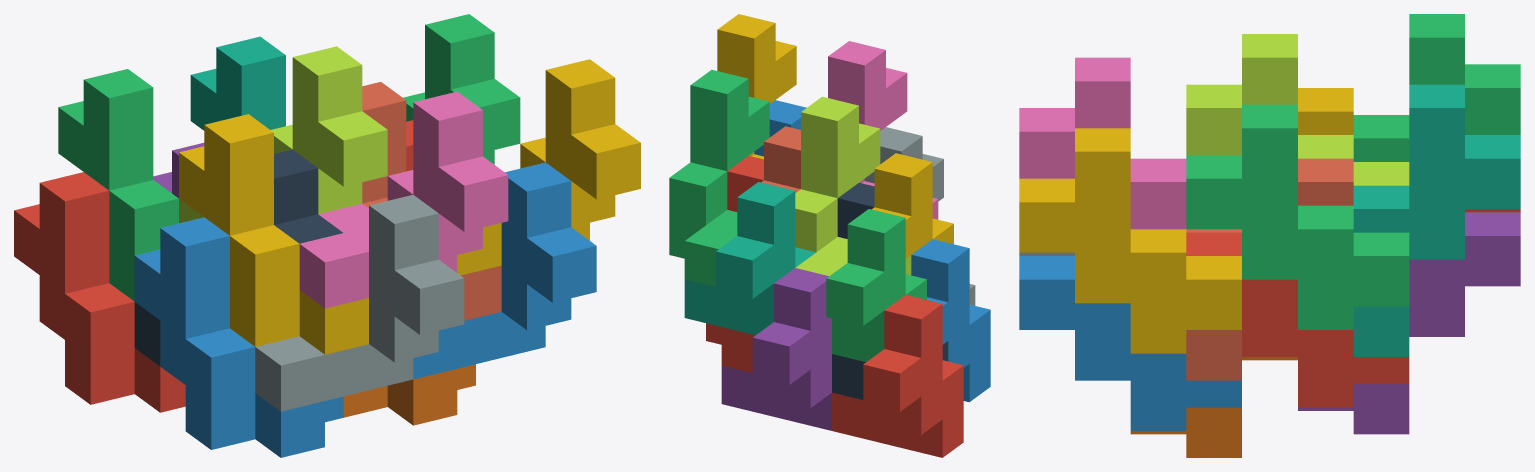
The model's file is tiling.obj.
The picture shows the model from 3 angles, left to right: view 1: azimuth 30°, elevation 25°; view 2: azimuth 150°, elevation 25°; view 3: azimuth 270°, elevation 25°; orthographic projection. The views are drawn at different scales.
Visible parts, largest first — view 1: copy_1_domain_2, copy_2_domain_2, copy_1_domain_1, copy_1_domain_4, copy_2_domain_4, copy_2_domain_6, copy_1_domain_3, copy_2_domain_8, copy_2_domain_3, copy_2_domain_7, copy_1_domain_7, copy_2_domain_1 (+3 smaller); view 2: copy_1_domain_1, copy_2_domain_7, copy_1_domain_5, copy_1_domain_7, copy_2_domain_3, copy_1_domain_3, copy_1_domain_2, copy_2_domain_4, copy_2_domain_8, copy_1_domain_4, copy_2_domain_5, copy_2_domain_1 (+3 smaller); view 3: copy_2_domain_7, copy_2_domain_8, copy_1_domain_7, copy_2_domain_6, copy_2_domain_4, copy_1_domain_5, copy_2_domain_5, copy_2_domain_3, copy_1_domain_3, copy_1_domain_8, copy_1_domain_6, copy_1_domain_4.
Part boxes in pixels (box(x1,y1,x2,y2)): copy_1_domain_2: box(134, 217, 343, 457); copy_2_domain_2: box(255, 195, 464, 411); copy_1_domain_1: box(14, 172, 185, 412); copy_1_domain_4: box(179, 114, 368, 354); copy_2_domain_4: box(299, 91, 508, 308); copy_2_domain_6: box(413, 162, 596, 379); copy_1_domain_3: box(58, 69, 178, 301); copy_2_domain_8: box(457, 59, 640, 275); copy_2_domain_3: box(179, 46, 387, 223); copy_2_domain_7: box(403, 14, 520, 164); copy_1_domain_7: box(190, 36, 285, 130); copy_2_domain_1: box(134, 149, 342, 366); copy_1_domain_1: box(832, 295, 963, 457); copy_2_domain_7: box(669, 70, 769, 286); copy_1_domain_5: box(721, 268, 831, 430); copy_1_domain_7: box(684, 182, 815, 335); copy_2_domain_3: box(795, 96, 911, 276); copy_1_domain_3: box(826, 209, 926, 361); copy_1_domain_2: box(911, 239, 990, 402); copy_2_domain_4: box(828, 41, 938, 219); copy_2_domain_8: box(717, 14, 796, 159); copy_1_domain_4: box(872, 153, 953, 258); copy_2_domain_5: box(706, 155, 763, 372); copy_2_domain_1: box(832, 182, 948, 399); copy_2_domain_7: box(1186, 104, 1409, 329); copy_2_domain_8: box(1019, 128, 1241, 353); copy_1_domain_7: box(1353, 84, 1520, 356); copy_2_domain_6: box(1019, 256, 1241, 430); copy_2_domain_4: box(1019, 57, 1186, 229); copy_1_domain_5: box(1298, 212, 1520, 434); copy_2_domain_5: box(1186, 232, 1409, 407); copy_2_domain_3: box(1186, 34, 1409, 185); copy_1_domain_3: box(1353, 14, 1520, 161); copy_1_domain_8: box(1186, 158, 1353, 380); copy_1_domain_6: box(1130, 357, 1297, 457); copy_1_domain_4: box(1298, 88, 1353, 134).
Bounding box in the file's own units: 9 × 7 × 9.
